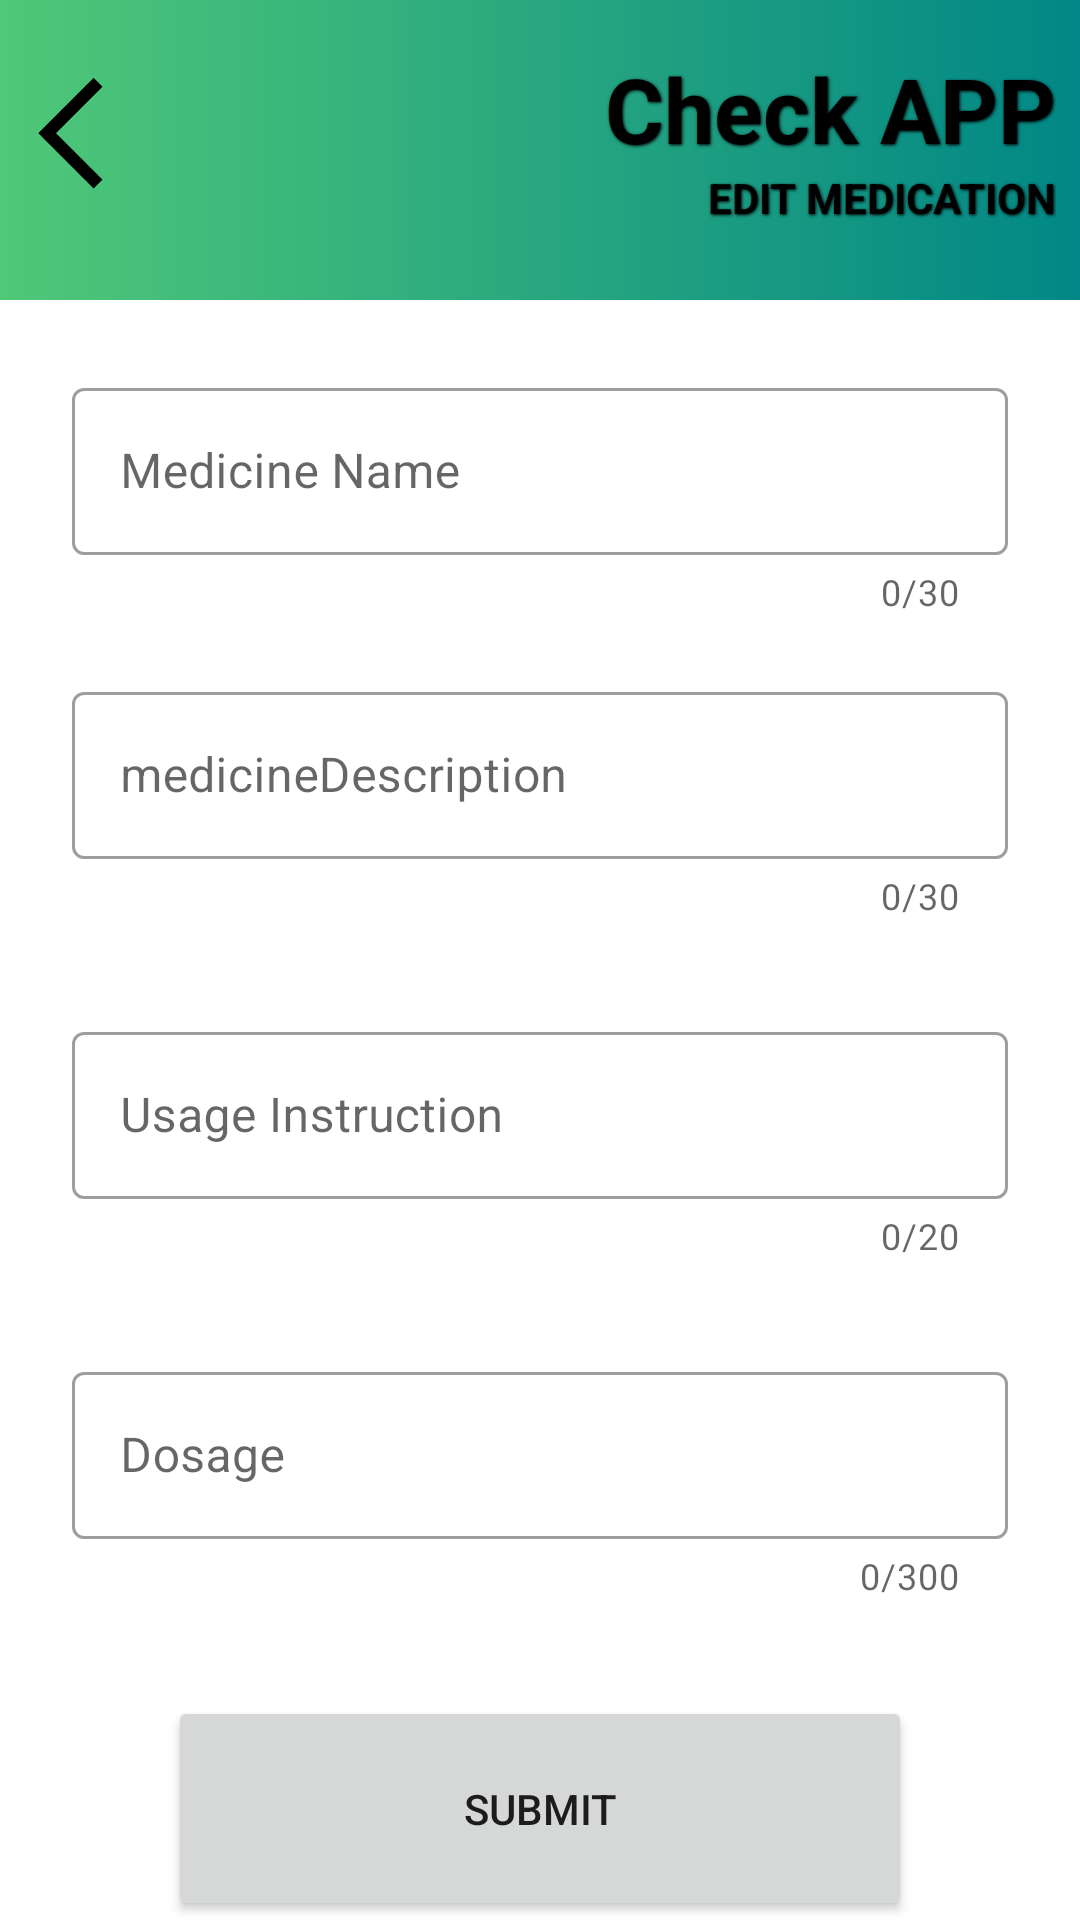

Locate icon controls on the screen. Image size 1080px x 1920px, boxes as [x1, y1, x2, y2].
backbutton: [38, 78, 103, 189]
